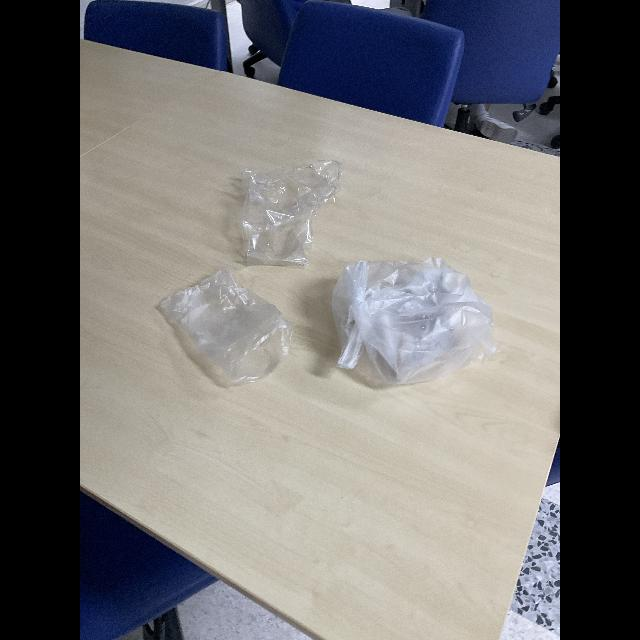plastic_bag: (325, 253, 493, 394), (162, 262, 292, 393), (223, 145, 347, 267)
